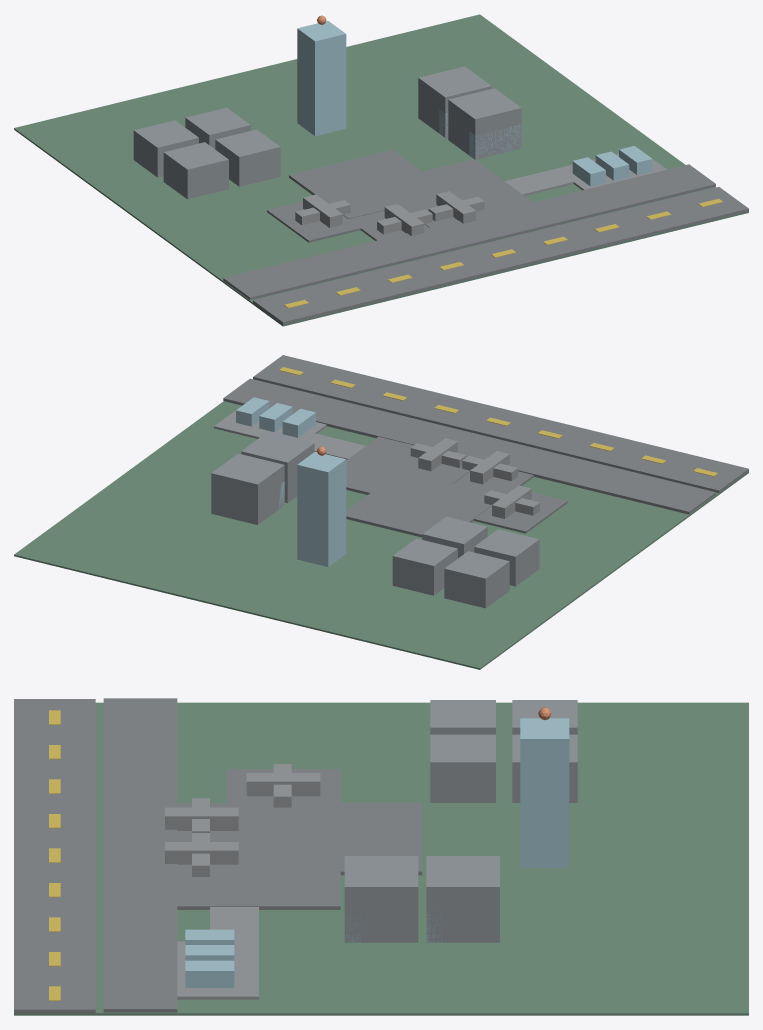
File: stage_15.glb
3 renders of one model, top to bottom at view 1: azimuth 30°, elevation 25°; view 2: azimuth 150°, elevation 25°; view 3: azimuth 270°, elevation 25°, orthographic. The views are drawn at different scales.
Visible parts, largest first — view 1: geometry_0; view 2: geometry_0; view 3: geometry_0.
Part boxes in pixels (x1,y1,x2,y2): geometry_0: [14, 14, 748, 326]; geometry_0: [14, 355, 748, 669]; geometry_0: [14, 698, 748, 1015].
Size of the model in its own units: 9 by 2.06 by 9.
